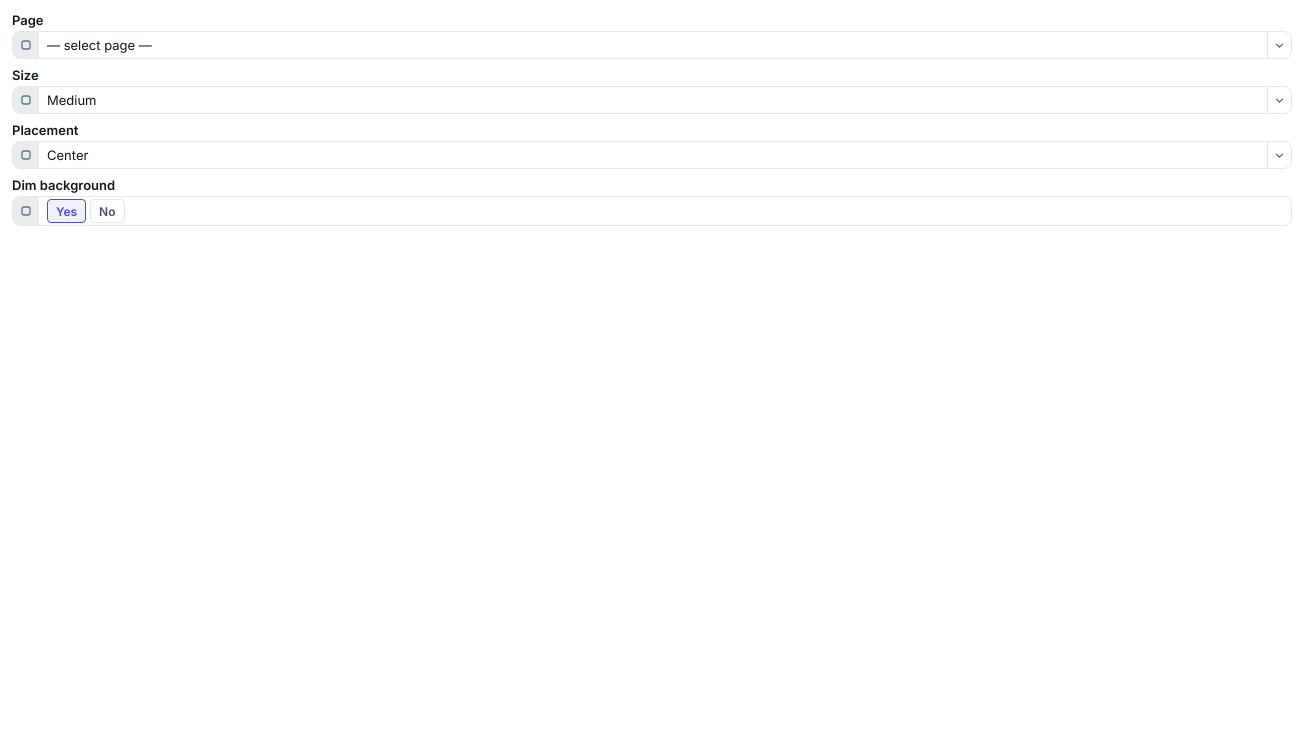
Test case: Placement select › lists every placement option for the openPageOverlay action
Click the dropdown labelled "Center" at {"x": 68, "y": 155}, box [47, 142, 1291, 168]
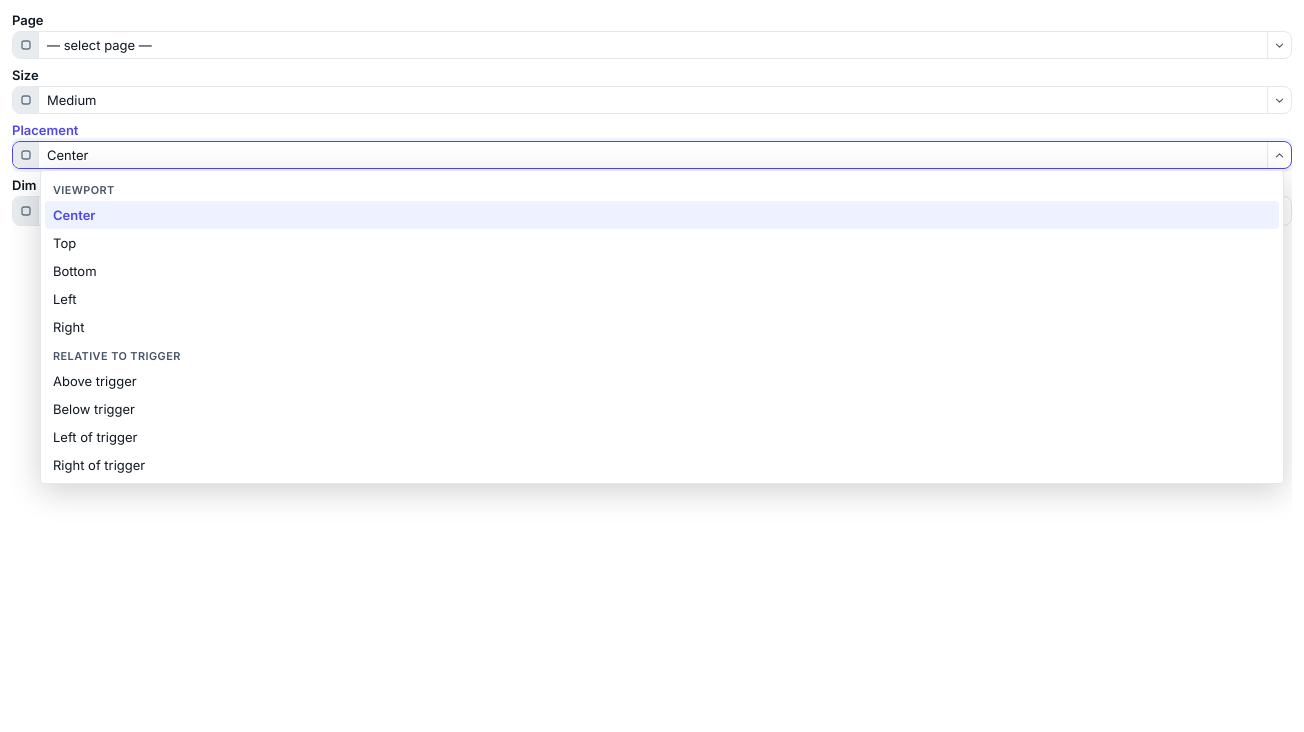
Check: the option "Center" is shown, box [45, 201, 1279, 229]
Check: the option "Top" is shown, box [53, 235, 76, 251]
Check: the option "Bottom" is shown, box [53, 263, 96, 279]
